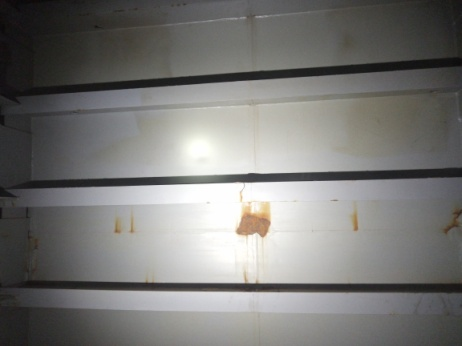corrosion: (235, 205, 277, 242), (447, 212, 462, 239), (347, 205, 362, 229), (114, 221, 133, 235)
